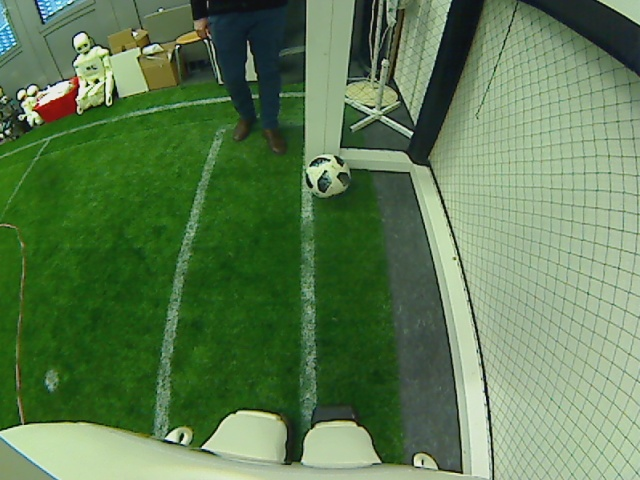ball: (305, 152, 352, 197)
